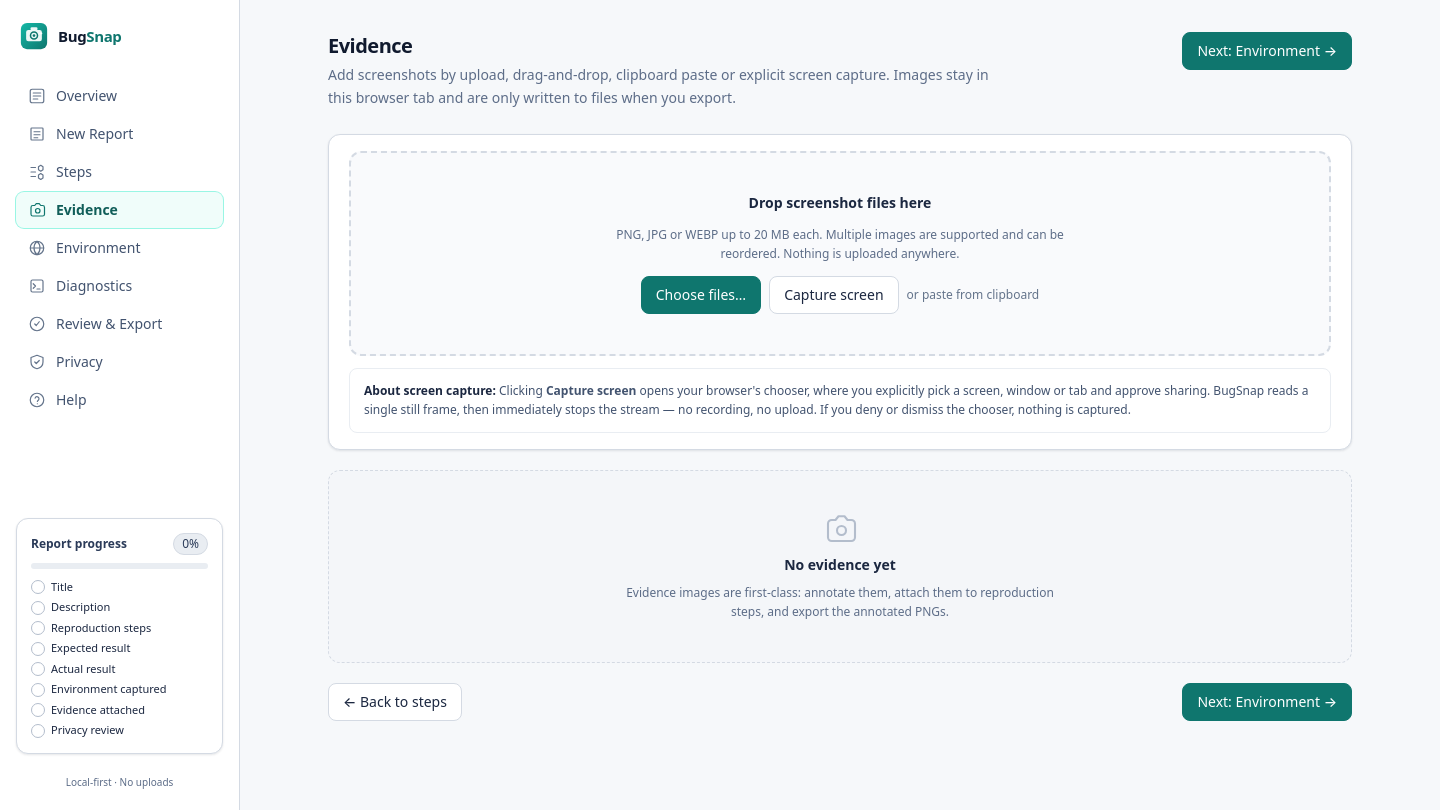
evidence workspace › adds a pasted clipboard image
Click the link "Evidence". click: (120, 210)
box: [16,192,223,228]
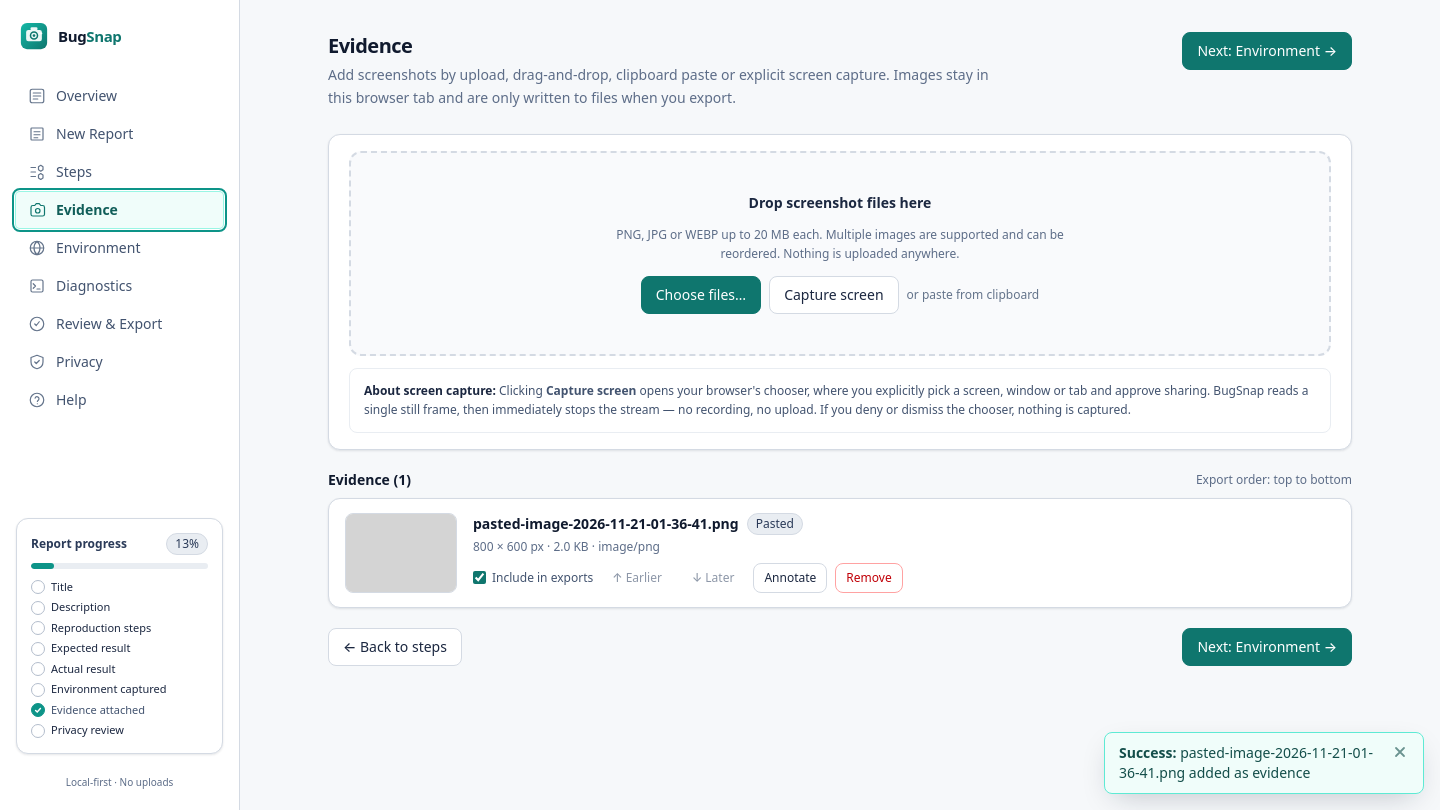
Expected: the heading "Evidence" is shown, [328,32,412,59]
Now the text "pasted-image-2026-11-21-01-36-41.png" is shown, box [473,514,739,534]
Now the text "Pasted" is shown, box [747,512,803,534]
